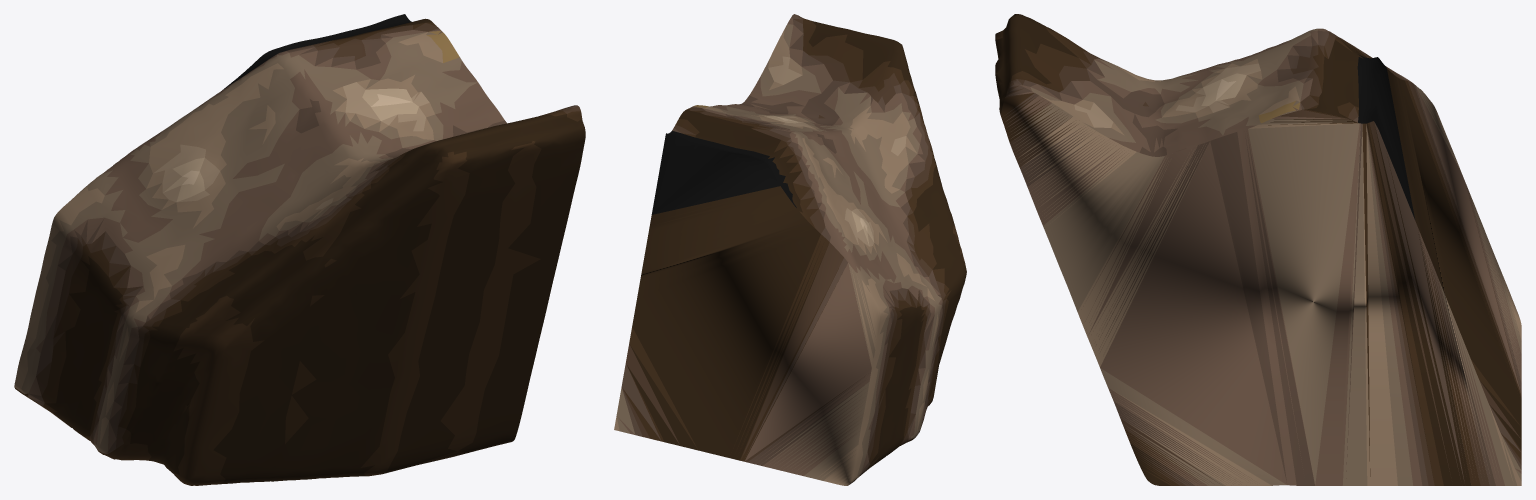
The model's file is rock_column_bl.glb.
The picture shows the model from 3 angles, left to right: view 1: azimuth 30°, elevation 25°; view 2: azimuth 150°, elevation 25°; view 3: azimuth 270°, elevation 25°; orthographic projection. The views are drawn at different scales.
Visible parts, largest first — view 1: rock_column_bl; view 2: rock_column_bl; view 3: rock_column_bl.
Boxes of the visible parts, x1,y1,x2,y2 form: rock_column_bl: (14, 14, 585, 485); rock_column_bl: (614, 14, 966, 485); rock_column_bl: (995, 14, 1521, 485).
Bounding box in the file's own units: 22.25 × 25.32 × 30.08.
